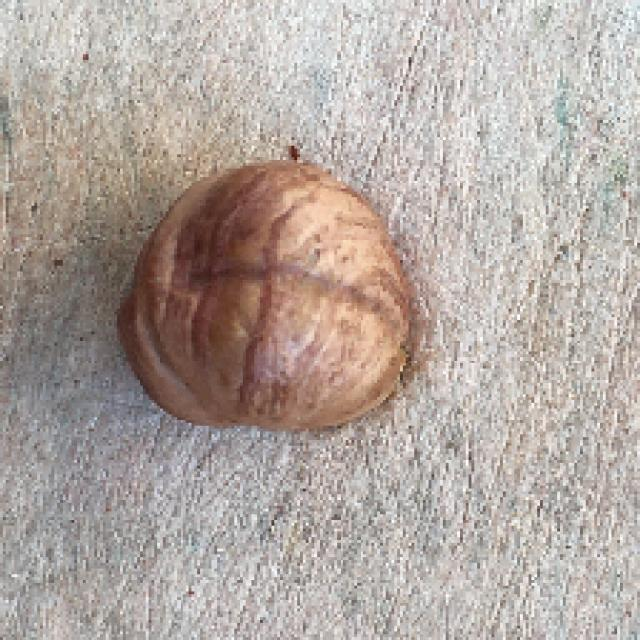hazelnut: (117, 145, 430, 435)
